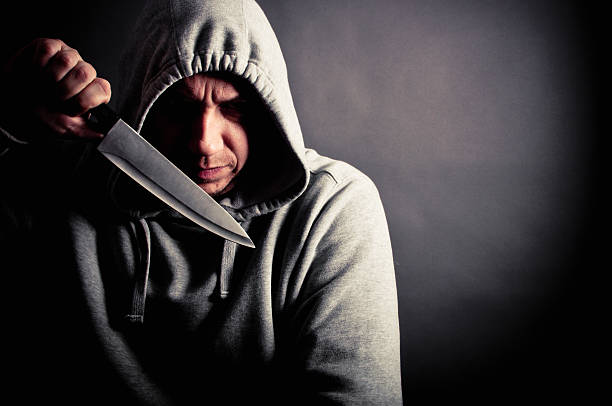knife: (77, 106, 255, 251)
